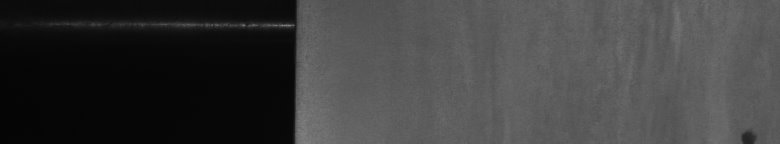fi: (740, 124, 757, 136)
